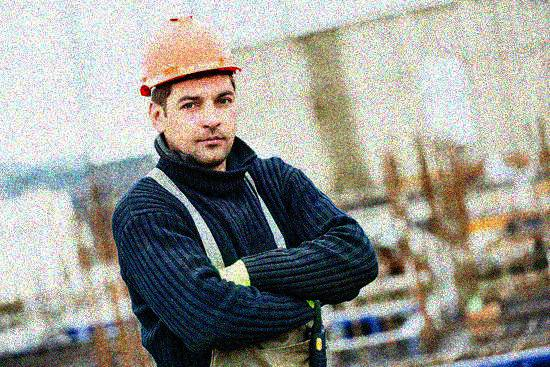helmet: (135, 14, 245, 167)
